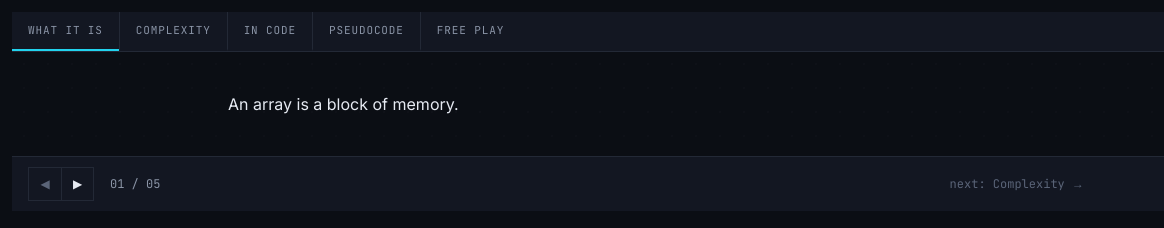
Test: SlideDeck › moves to a slide when its rail tab is clicked
Click the tab "Complexity" at (173, 31), box [119, 12, 227, 50]
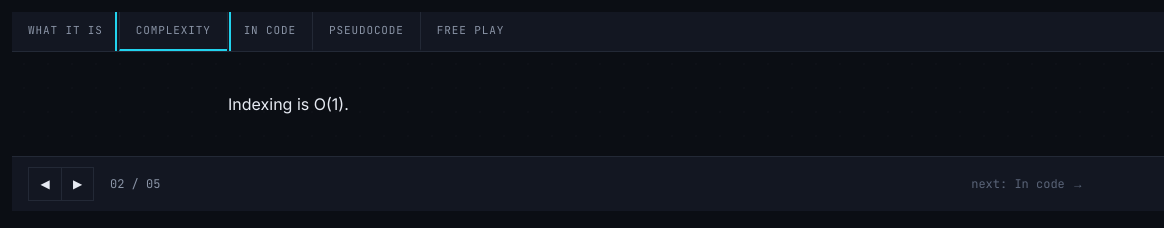
expect the text "Indexing is O(1)." is shown: met, box [228, 94, 349, 114]
expect the text "An array is a block of memory." is gone: met
